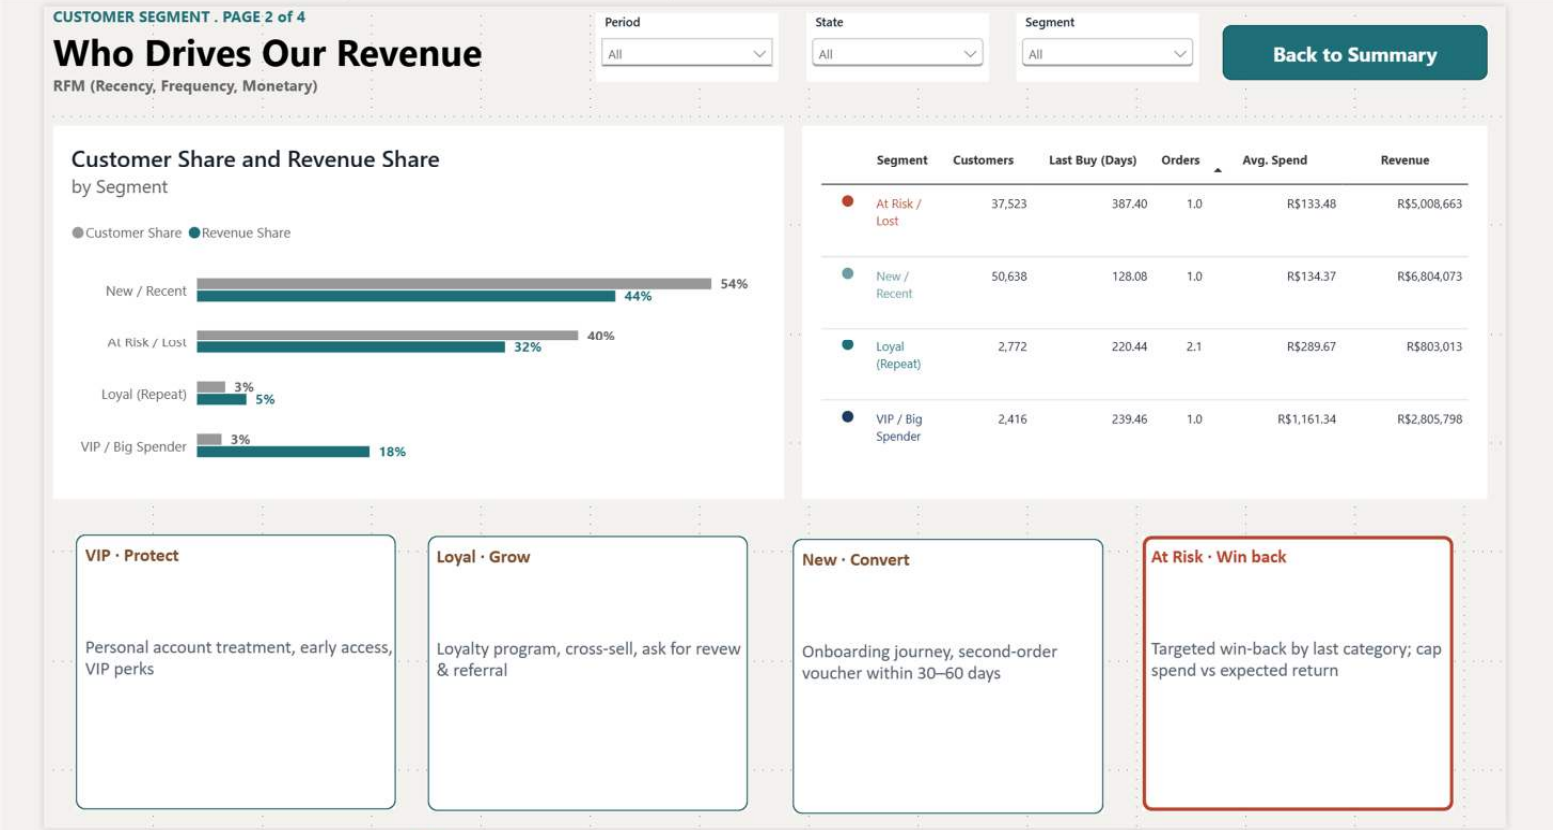

This screenshot's page, from the dashboard's own definition file:
{"tool":"powerbi","page":{"name":"Customer Segment","canvas":[1280,720],"ordinal":1},"visuals":[{"type":"textbox","box":[8,0,528,96],"z":0},{"type":"shape","box":[961.7,464.8,272,240],"z":1000},{"type":"clusteredBarChart","fields":{"Category":["dim_customer.Segment"],"Y":["_Measures.Customer Share","_Measures.Revenue Share"]},"box":[8,104,640,328],"z":2000},{"type":"textbox","box":[969.7,472.8,136,32],"z":3000},{"type":"tableEx","fields":{"Values":["_Measures.Segment Dot","dim_customer.Segment","_Measures.Segment Customers","Avg(dim_customer.Recency)","Avg(dim_customer.Frequency)","Avg(dim_customer.Monetary)","_Measures.Revenue"]},"box":[664,104,600,328],"z":4000},{"type":"textbox","box":[969.7,552.8,258.4,120],"z":5000},{"type":"shape","box":[336,465,280,240],"z":6000},{"type":"textbox","box":[344,473,107.2,36],"z":7000},{"type":"textbox","box":[344,553,271.5,60],"z":8000},{"type":"shape","box":[655.5,467.7,272,240],"z":9000},{"type":"textbox","box":[663.5,475.7,104,32],"z":10000},{"type":"textbox","box":[663.5,555.7,258.4,120],"z":11000},{"type":"shape","box":[28.3,463.8,280,240],"z":12000},{"type":"textbox","box":[36.3,471.8,107.2,36],"z":13000},{"type":"textbox","box":[36.3,551.8,271.5,60],"z":14000},{"type":"shape","box":[1032,16,232,48],"z":15000},{"type":"slicer","title":"Period:","fields":{"Values":["dim_date.Year"]},"box":[483.4,5.7,160,60],"z":16000},{"type":"slicer","title":"State:","fields":{"Values":["fact_orders.customer_state"]},"box":[667.4,5.7,160,60],"z":17000},{"type":"slicer","title":"Segment:","fields":{"Values":["dim_customer.Segment"]},"box":[851.4,5.7,160,60],"z":18000}]}

Visuals, with their boxes on the page's 1280x720 design canvas (x1, y1, x2, y2). These are canvas units, not pixel positions in the 1553x830 screenshot, which may show the page scaled, cropped or inside an application window:
textbox: {"x1": 8, "y1": 0, "x2": 536, "y2": 96}
shape: {"x1": 962, "y1": 465, "x2": 1234, "y2": 705}
clusteredBarChart - dim_customer.Segment x _Measures.Customer Share: {"x1": 8, "y1": 104, "x2": 648, "y2": 432}
textbox: {"x1": 970, "y1": 473, "x2": 1106, "y2": 505}
tableEx - _Measures.Segment Dot x dim_customer.Segment: {"x1": 664, "y1": 104, "x2": 1264, "y2": 432}
textbox: {"x1": 970, "y1": 553, "x2": 1228, "y2": 673}
shape: {"x1": 336, "y1": 465, "x2": 616, "y2": 705}
textbox: {"x1": 344, "y1": 473, "x2": 451, "y2": 509}
textbox: {"x1": 344, "y1": 553, "x2": 616, "y2": 613}
shape: {"x1": 656, "y1": 468, "x2": 928, "y2": 708}
textbox: {"x1": 664, "y1": 476, "x2": 768, "y2": 508}
textbox: {"x1": 664, "y1": 556, "x2": 922, "y2": 676}
shape: {"x1": 28, "y1": 464, "x2": 308, "y2": 704}
textbox: {"x1": 36, "y1": 472, "x2": 144, "y2": 508}
textbox: {"x1": 36, "y1": 552, "x2": 308, "y2": 612}
shape: {"x1": 1032, "y1": 16, "x2": 1264, "y2": 64}
"Period:" slicer: {"x1": 483, "y1": 6, "x2": 643, "y2": 66}
"State:" slicer: {"x1": 667, "y1": 6, "x2": 827, "y2": 66}
"Segment:" slicer: {"x1": 851, "y1": 6, "x2": 1011, "y2": 66}
